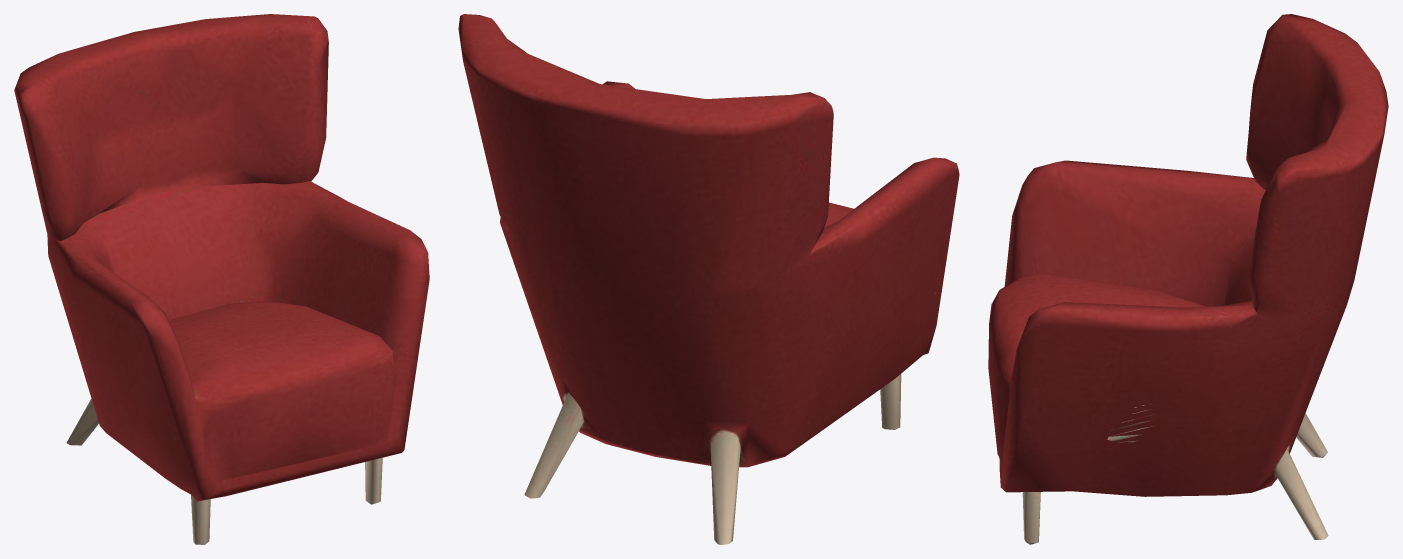
File: 22 - OSKARSHAMN Wing chair - Tonerud red.glb
The picture shows the model from 3 angles, left to right: view 1: azimuth 30°, elevation 25°; view 2: azimuth 150°, elevation 25°; view 3: azimuth 270°, elevation 25°; orthographic projection. The views are drawn at different scales.
Parts seen in each view (by area): view 1: model; view 2: model; view 3: model.
Boxes of the visible parts, box(x1,y1,x2,y2) form: model: box(14, 14, 429, 544); model: box(458, 14, 959, 544); model: box(988, 14, 1388, 544).
Bounding box in the file's own units: 0.8347 × 0.9935 × 0.8797.
Materials: 1 (1 with a texture image).
